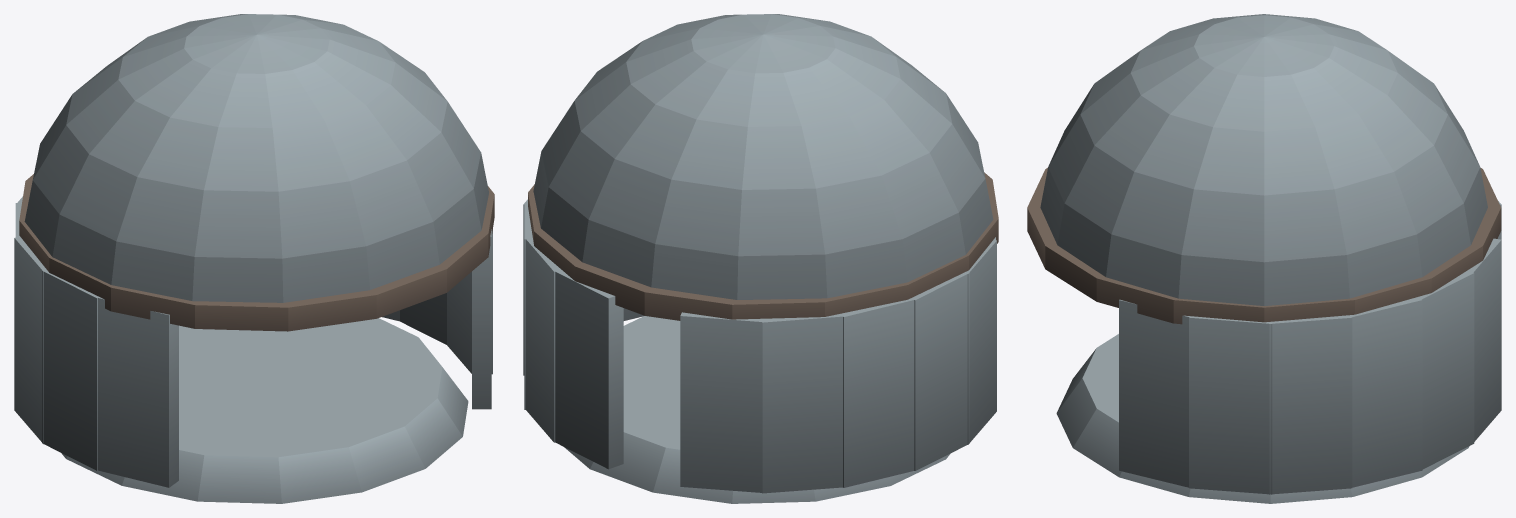
Rendered from iron_coif.glb.
The picture shows the model from 3 angles, left to right: view 1: azimuth 30°, elevation 25°; view 2: azimuth 150°, elevation 25°; view 3: azimuth 270°, elevation 25°; orthographic projection.
Parts seen in each view (by area): view 1: iron_coif; view 2: iron_coif; view 3: iron_coif.
Boxes of the visible parts, left/top/right/bottom form: iron_coif: left=14, top=14, right=494, bottom=503; iron_coif: left=523, top=14, right=998, bottom=503; iron_coif: left=1027, top=14, right=1501, bottom=503.
Bounding box in the file's own units: 1.48 × 1.28 × 1.46.
Materials: 1 (1 with a texture image).
